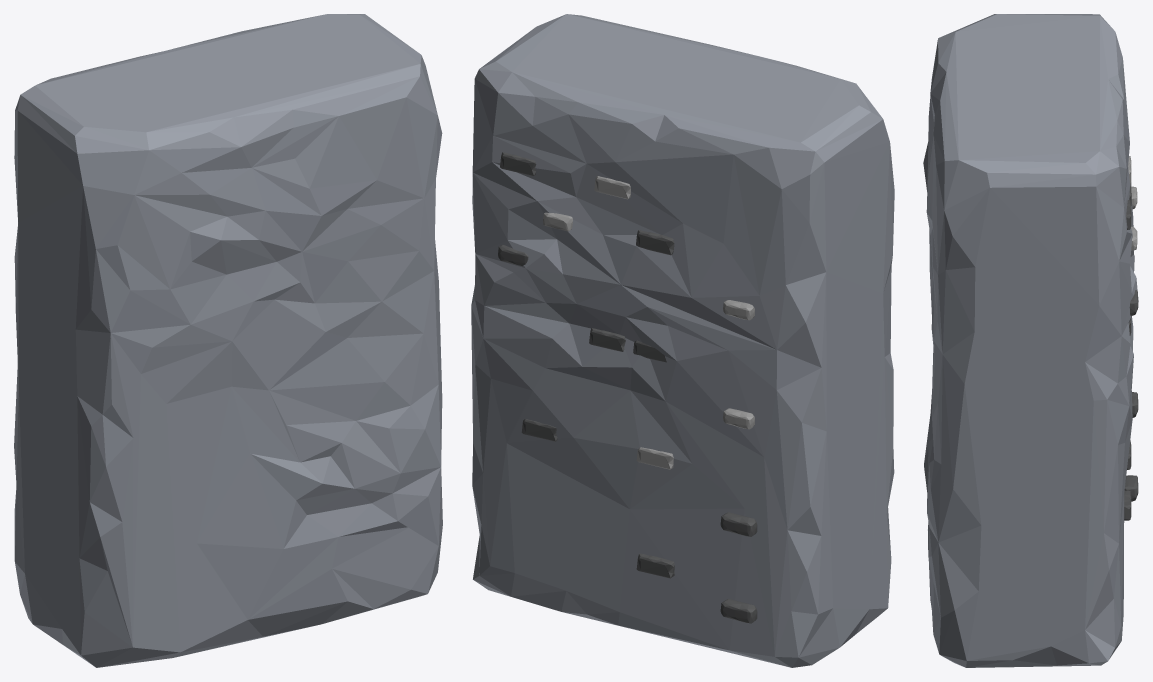
Rendered from SM_castle_wall_brick_01.fbx.
3 renders of one model, left to right at view 1: azimuth 30°, elevation 25°; view 2: azimuth 150°, elevation 25°; view 3: azimuth 270°, elevation 25°, orthographic. The views are drawn at different scales.
Visible parts, largest first — view 1: castle_wall_brick_01; view 2: castle_wall_brick_01; view 3: castle_wall_brick_01.
Part boxes in pixels (x1,y1,x2,y2): castle_wall_brick_01: (14,14,442,667); castle_wall_brick_01: (471,14,894,667); castle_wall_brick_01: (923,14,1138,667).
Size of the model in its own units: 505 by 722 by 280.
